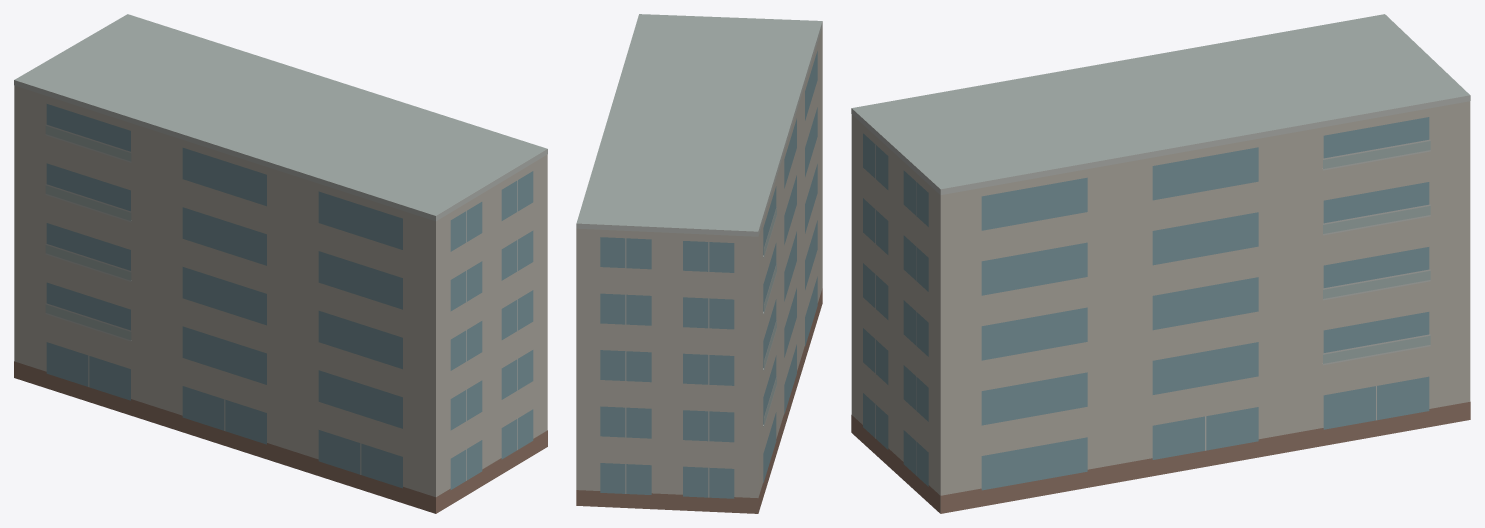
Rendered from survey-upis-32600652.glb.
The picture shows the model from 3 angles, left to right: view 1: azimuth 30°, elevation 25°; view 2: azimuth 150°, elevation 25°; view 3: azimuth 270°, elevation 25°; orthographic projection. The views are drawn at different scales.
Visible parts, largest first — view 1: survey-upis-32600652.tmp; view 2: survey-upis-32600652.tmp; view 3: survey-upis-32600652.tmp.
Part boxes in pixels (left/top/right/bottom): survey-upis-32600652.tmp: left=14, top=14, right=547, bottom=513; survey-upis-32600652.tmp: left=576, top=14, right=822, bottom=513; survey-upis-32600652.tmp: left=851, top=14, right=1470, bottom=513.
Bounding box in the file's own units: 15.53 × 13.4 × 23.17.
